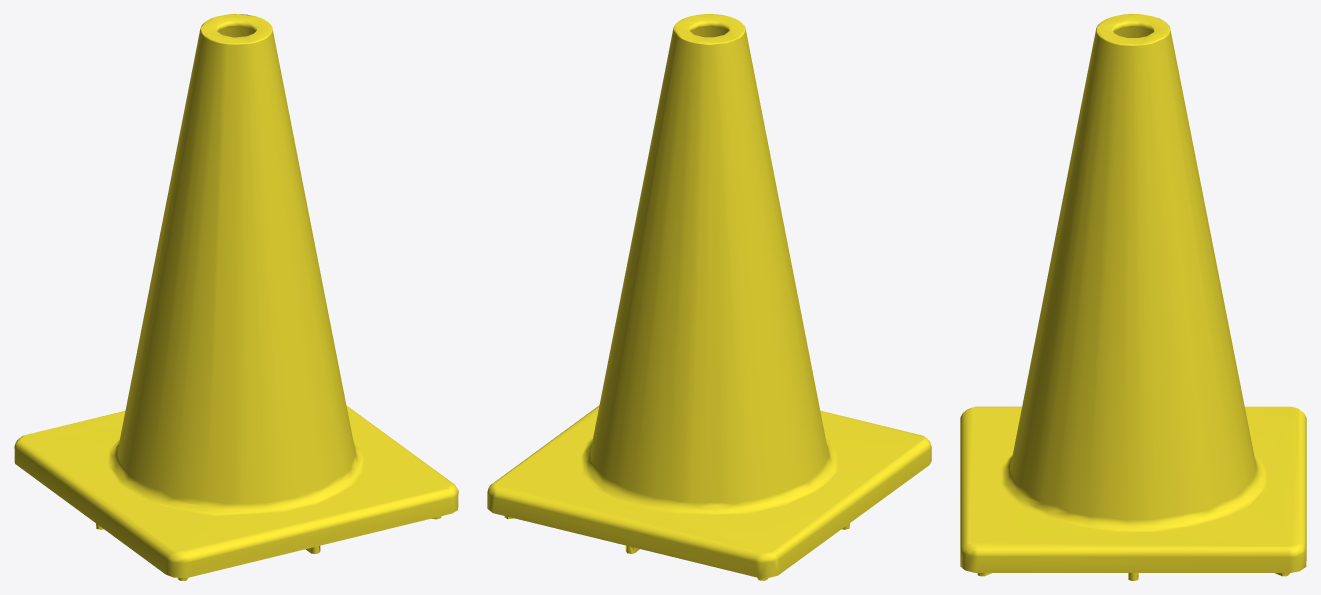
The picture shows the model from 3 angles, left to right: view 1: azimuth 30°, elevation 25°; view 2: azimuth 150°, elevation 25°; view 3: azimuth 270°, elevation 25°; orthographic projection. The views are drawn at different scales.
Visible parts, largest first — view 1: Cone; view 2: Cone; view 3: Cone.
Part boxes in pixels (x1,y1,x2,y2): Cone: (14, 14, 458, 580); Cone: (487, 14, 931, 580); Cone: (960, 14, 1306, 580).
Bounding box in the file's own units: 21.26 × 32.54 × 21.24.
